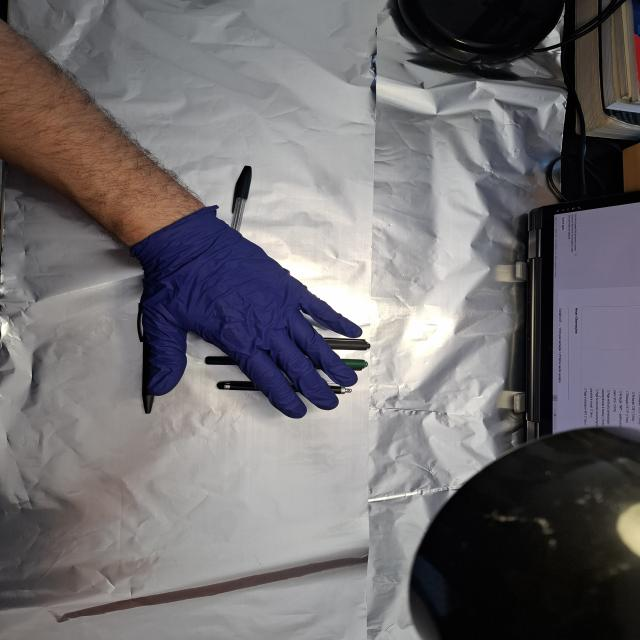glove_on: (127, 210, 367, 420)
